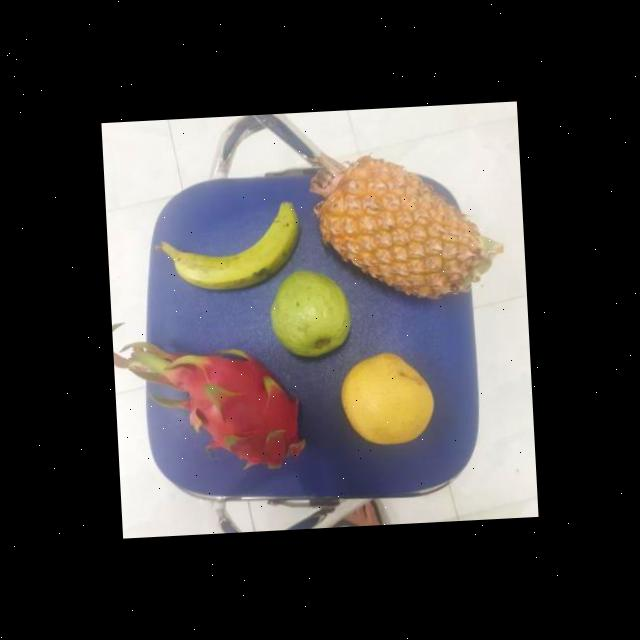banana: (166, 202, 310, 290)
guava: (268, 268, 356, 359)
pear: (336, 348, 444, 447)
pineapple: (318, 158, 492, 302)
pitaya: (162, 346, 324, 488), (198, 346, 310, 471)
